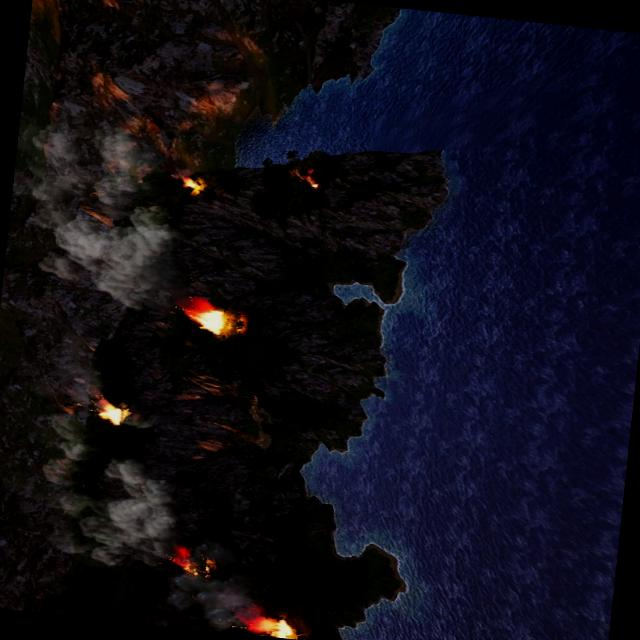fire: (186, 299, 232, 336), (250, 612, 300, 640), (96, 397, 126, 423), (292, 166, 322, 188), (182, 175, 206, 191)
smoke: (12, 111, 192, 311), (52, 450, 188, 566), (166, 537, 259, 634)
